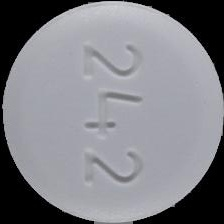61919-844: (0, 0, 224, 224)
